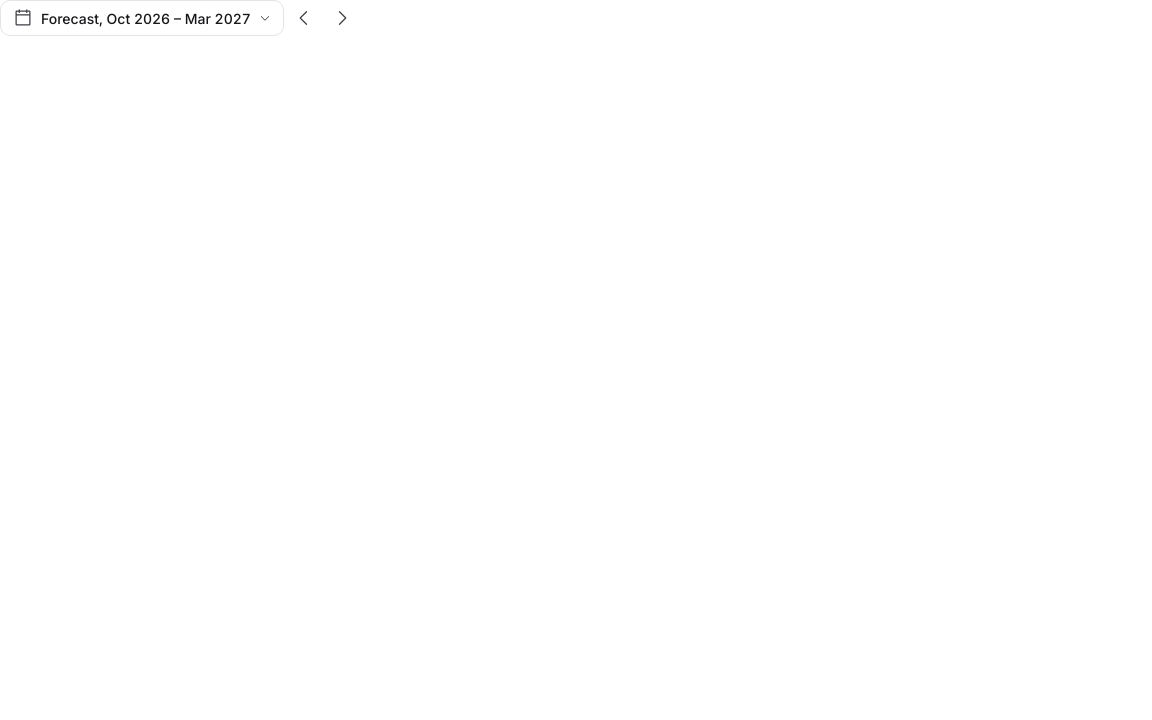
Test: PeriodPicker › keeps the first month through a change of year and of view, until the menu closes
The image size is (1152, 720).
Later steps or results of the test are not shown.
Click the button "Forecast, Oct 2026 – Mar 2027" at [142, 18], box [0,0,284,36]
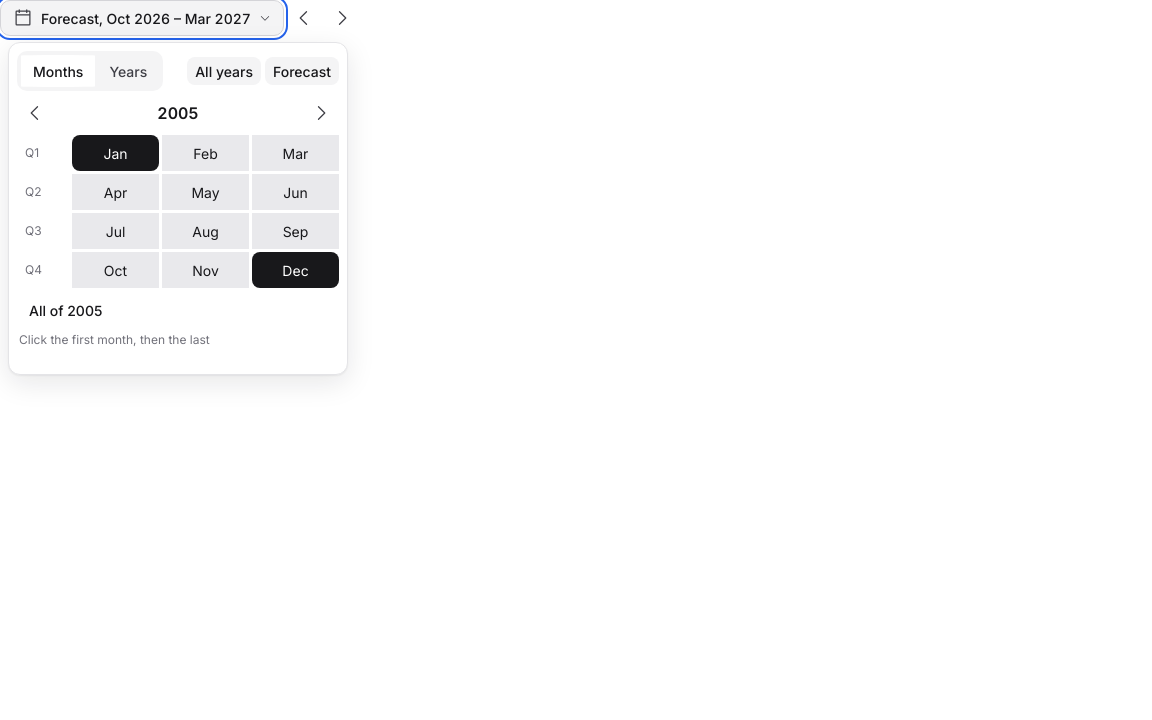
Click the button titled "2005-03" at [296, 153], box [252,135,339,171]
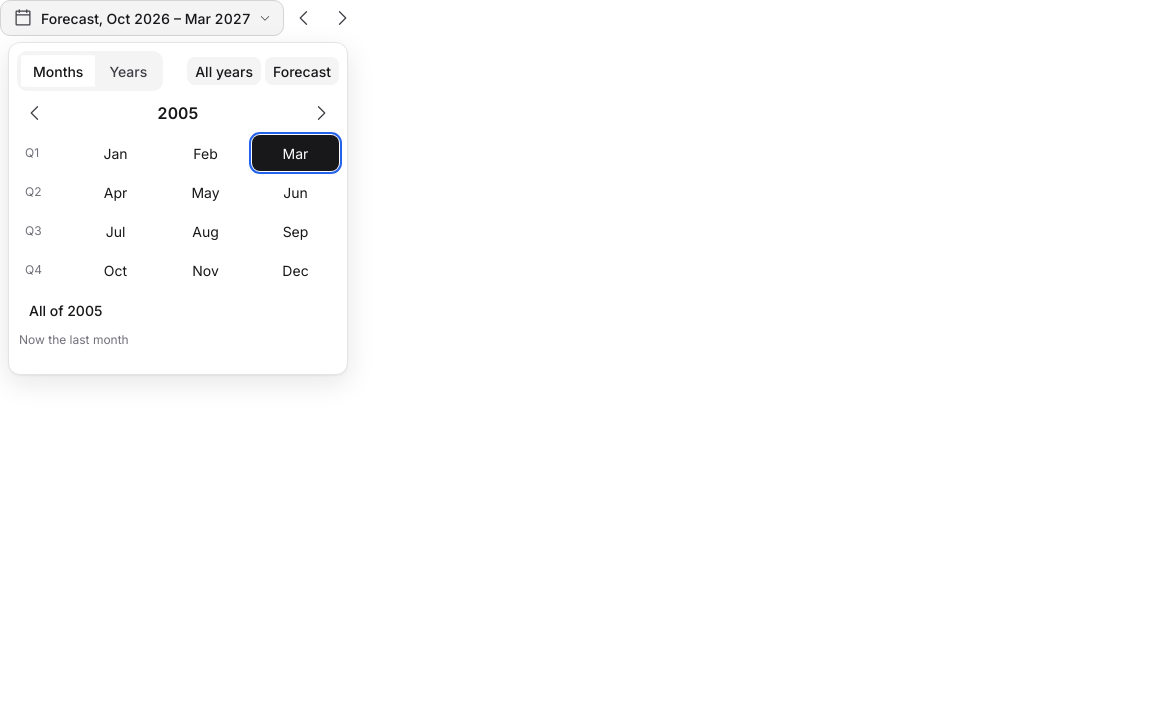
Click the button named "Next year" at [321, 113], box [303,95,339,131]
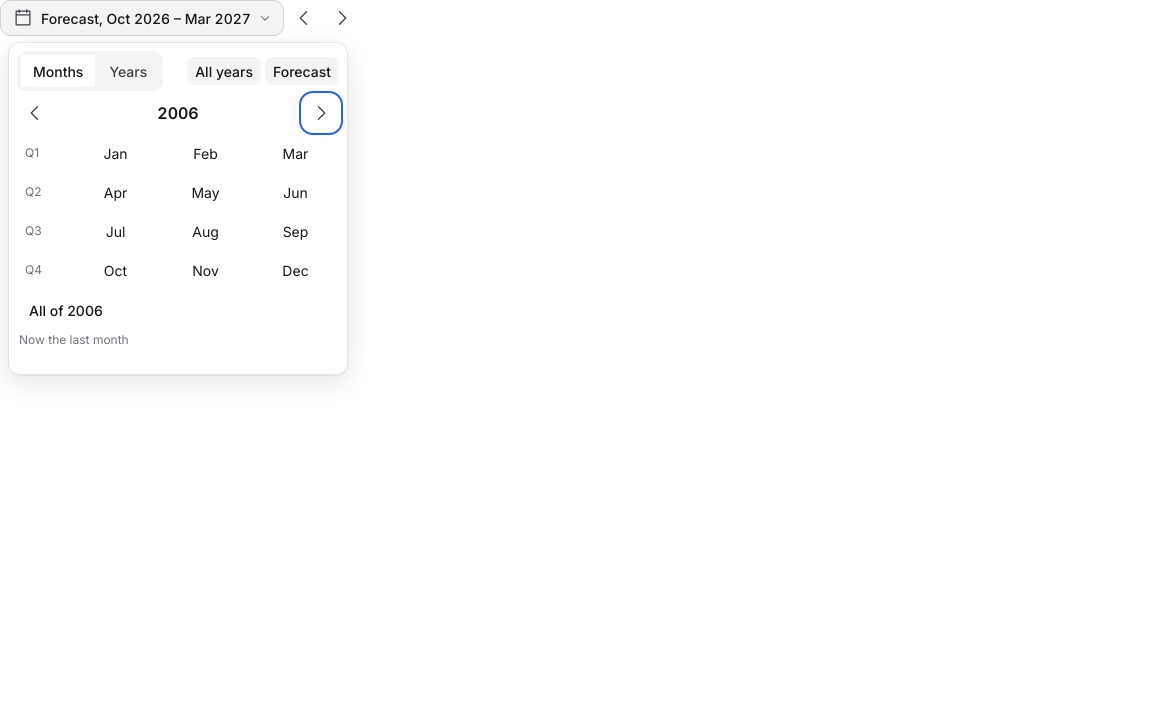
Click the button "Years" at [128, 71], box [97,55,159,87]
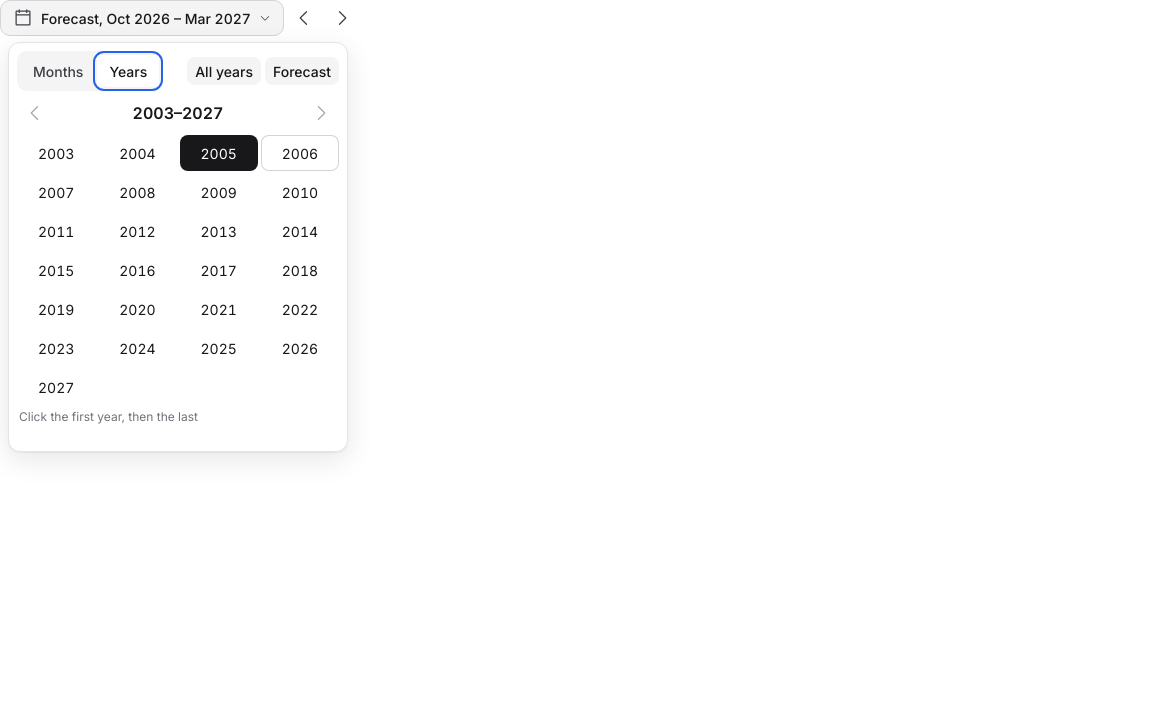
Click the button "Months" at [58, 71], box [21,55,95,87]
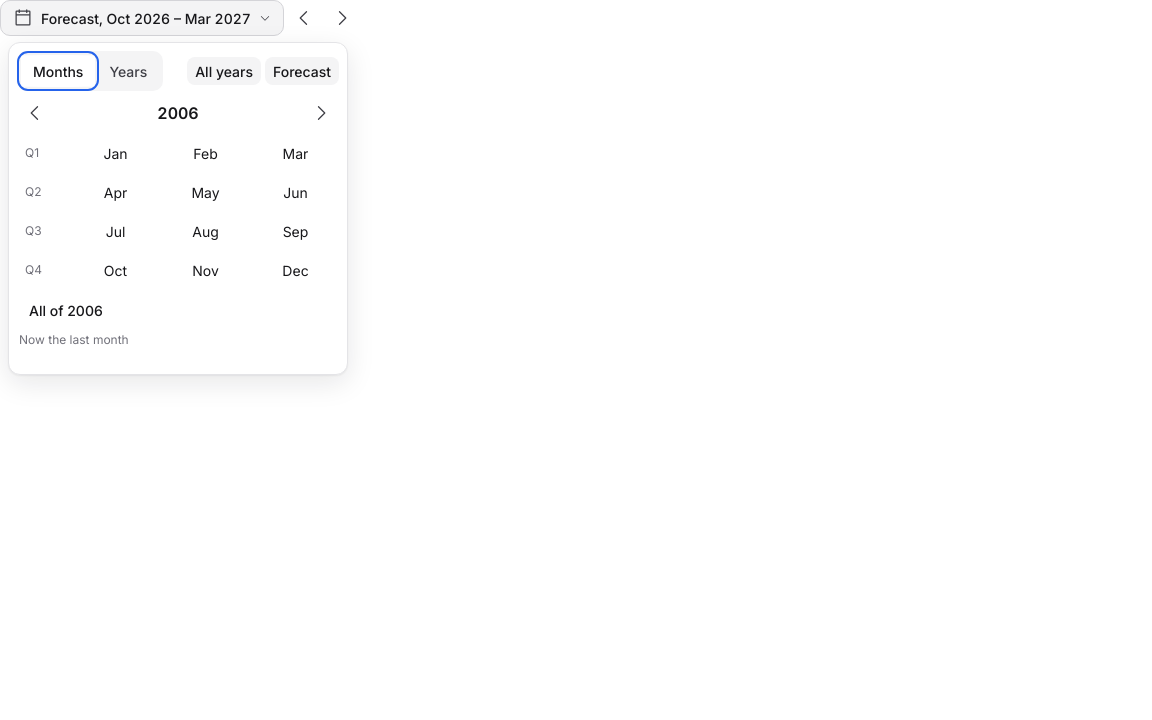
Expected: the message reads "Now the last month", [19,332,129,347]
